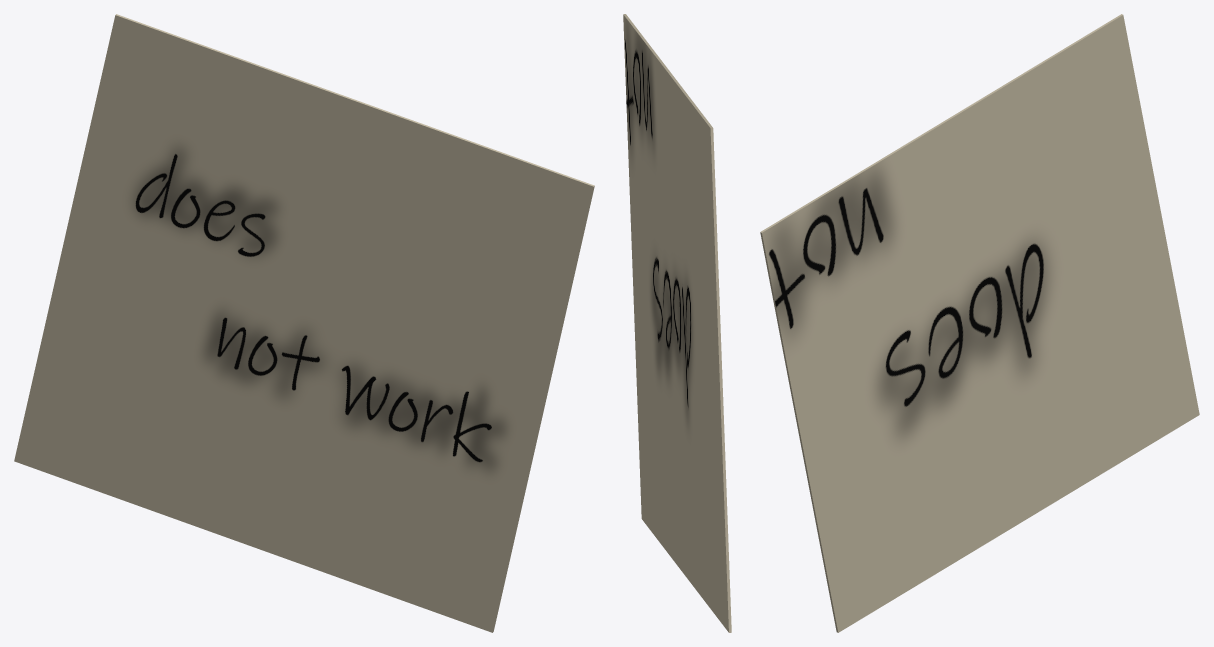
File: листочек на вентиляторе.fbx
3 renders of one model, left to right at view 1: azimuth 30°, elevation 25°; view 2: azimuth 150°, elevation 25°; view 3: azimuth 270°, elevation 25°, orthographic. The views are drawn at different scales.
Visible parts, largest first — view 1: Circle.004; view 2: Circle.004; view 3: Circle.004.
Boxes of the visible parts, x1,y1,x2,y2 form: Circle.004: (14,14,594,632); Circle.004: (623,14,731,632); Circle.004: (760,14,1199,632).
Size of the model in its own units: 1.9 by 1.59 by 2.46.
